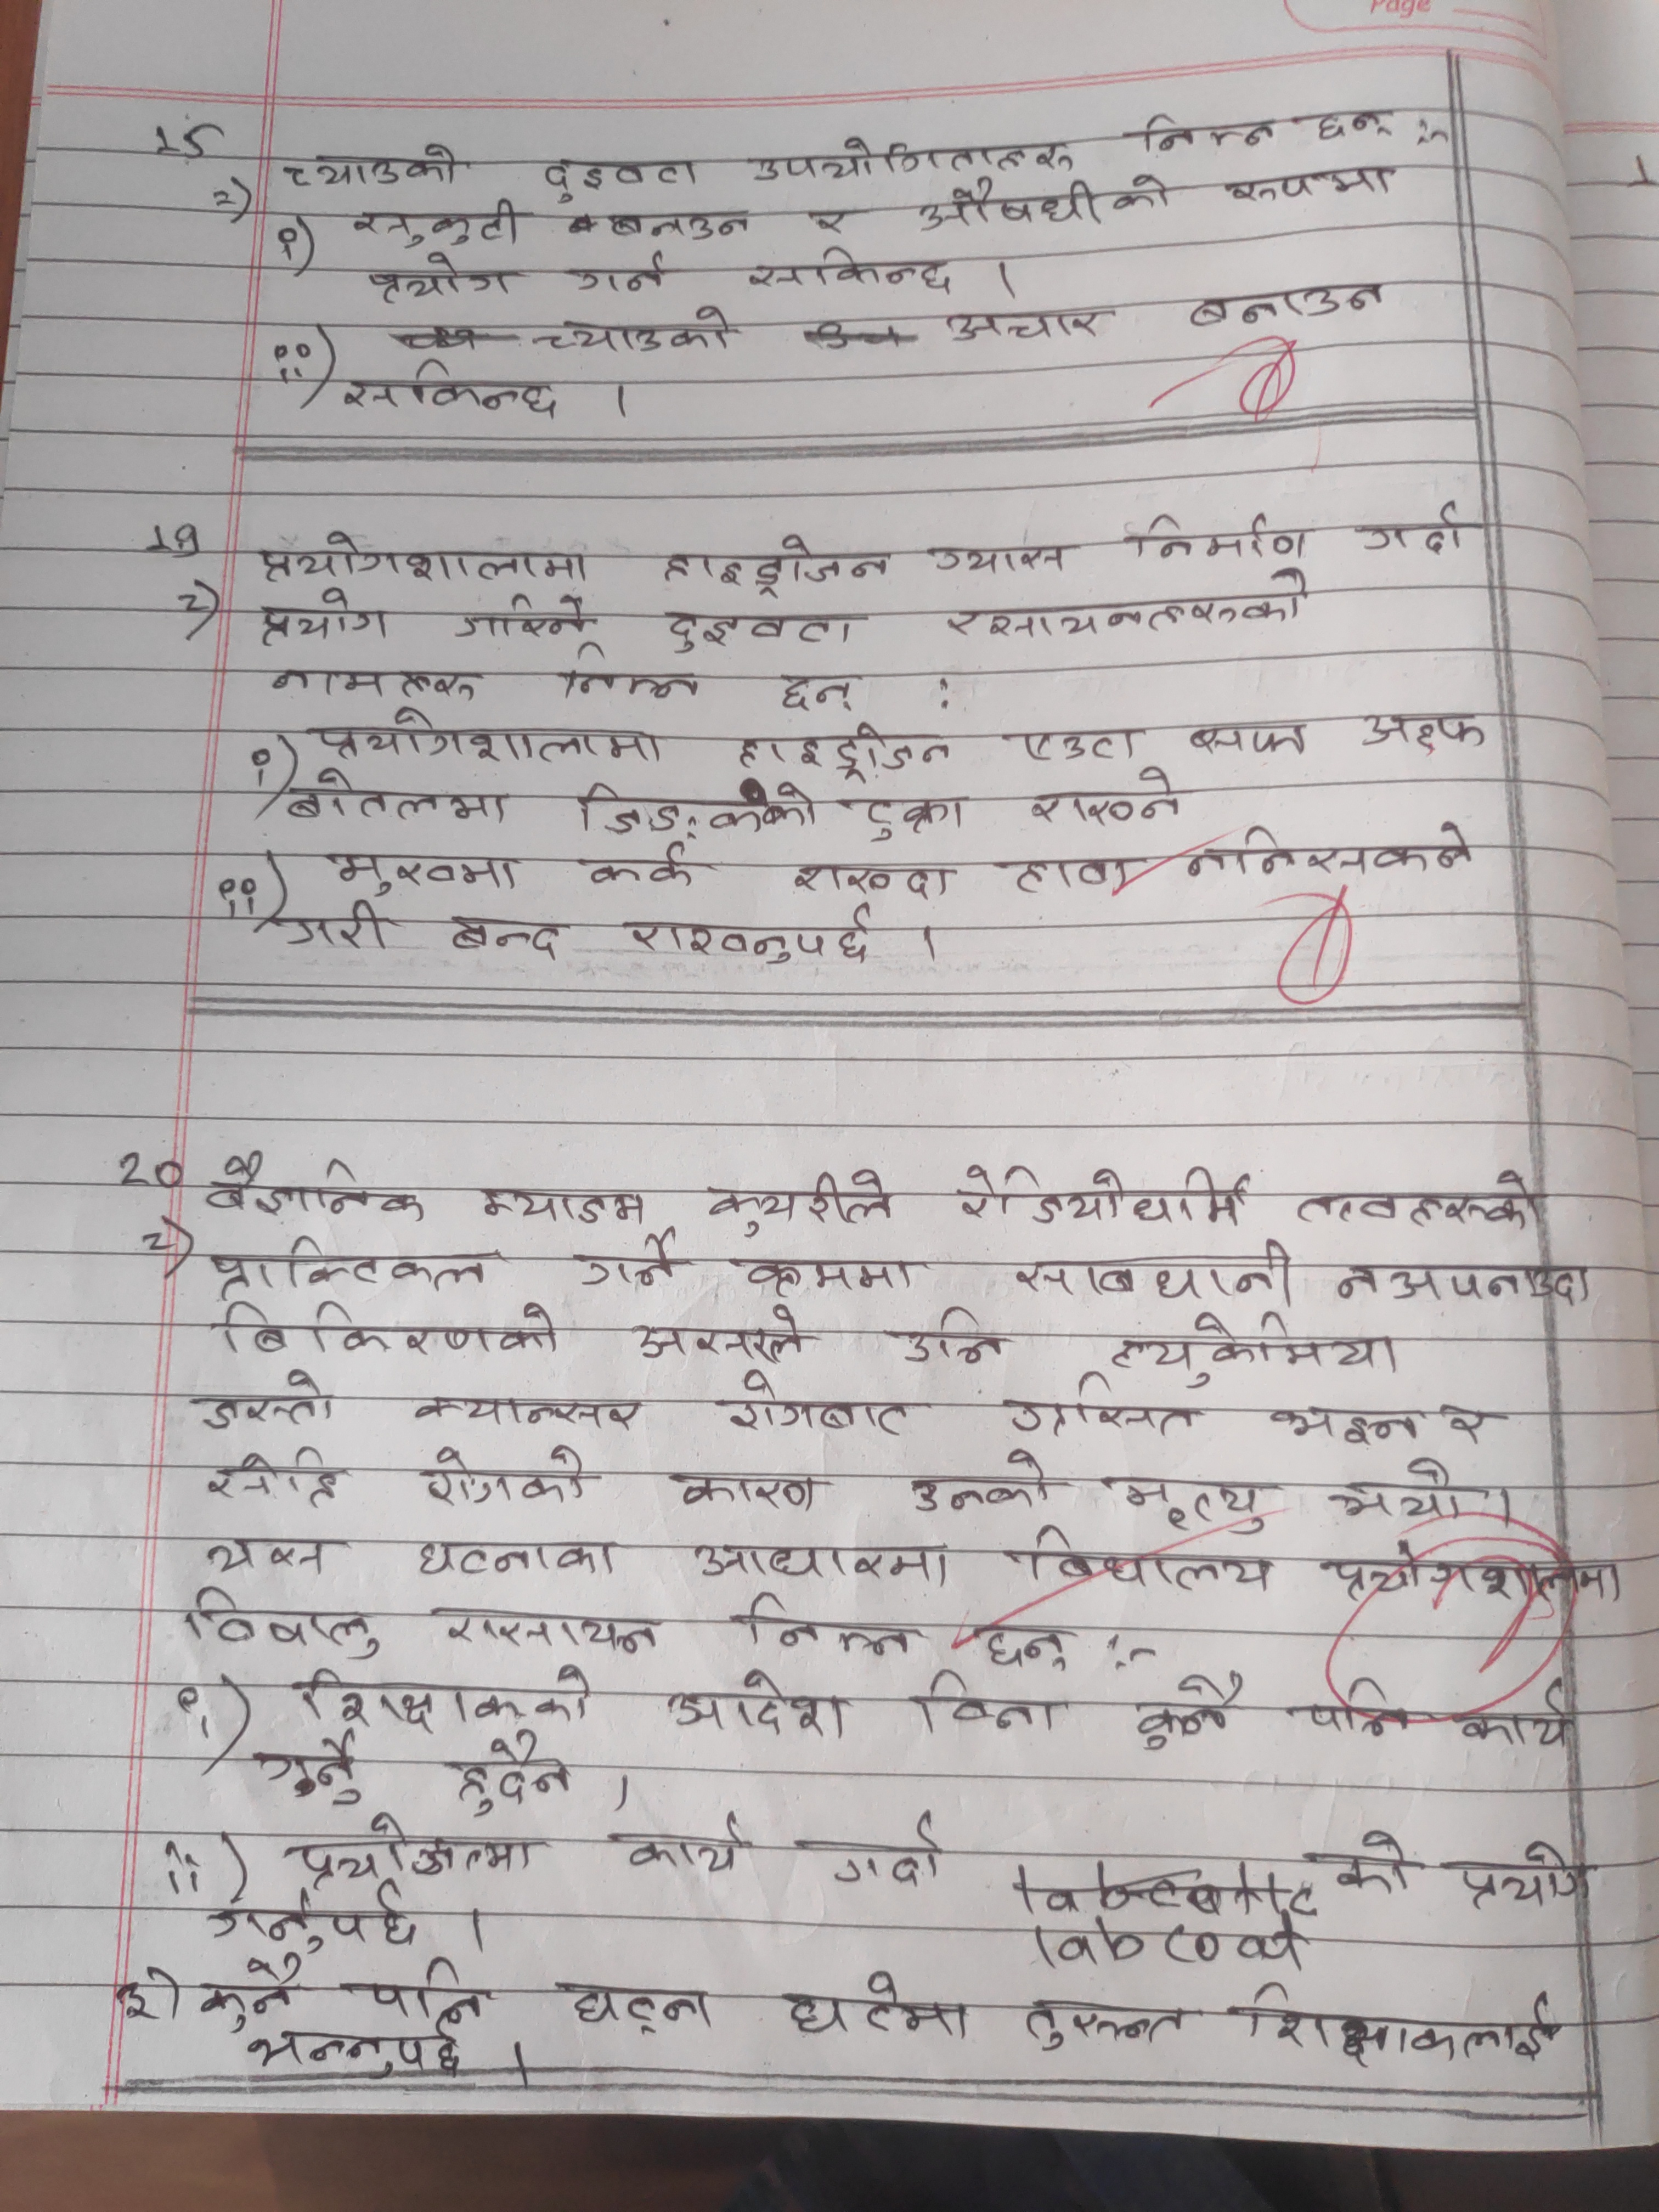text: (1239, 1975, 1561, 2067), (941, 568, 1312, 641), (1314, 1538, 1628, 1616), (1105, 1310, 1410, 1388), (314, 704, 666, 766), (293, 1660, 596, 1730), (220, 1298, 563, 1359), (253, 524, 591, 585), (951, 1163, 1256, 1230), (204, 1235, 498, 1299), (1019, 1524, 1272, 1597), (1009, 1238, 1298, 1301), (617, 899, 878, 965), (293, 1813, 552, 1876), (1185, 824, 1476, 880), (202, 1153, 425, 1224), (1295, 1167, 1547, 1230), (660, 531, 885, 599), (748, 136, 1075, 181), (185, 1587, 382, 1662), (779, 1970, 976, 2045), (692, 1538, 955, 1592), (1337, 1254, 1582, 1312), (286, 765, 511, 827), (579, 773, 823, 831), (721, 1360, 915, 1432), (340, 357, 563, 418), (997, 1379, 1208, 1444), (436, 1597, 664, 1656), (704, 1169, 897, 1238), (734, 721, 955, 780), (1187, 272, 1394, 333), (199, 1897, 425, 1952), (240, 2024, 465, 2080), (342, 1954, 500, 2033), (664, 1670, 845, 1738), (741, 1590, 917, 1658), (535, 301, 741, 359), (411, 1527, 617, 1583), (453, 1733, 580, 1822), (631, 1303, 805, 1367), (1101, 1468, 1270, 1534), (326, 845, 528, 899), (413, 1446, 586, 1508), (906, 1451, 1065, 1519), (1450, 1836, 1596, 1909), (1129, 1669, 1253, 1754), (657, 606, 863, 657), (1023, 765, 1185, 827), (915, 1670, 1063, 1738), (1025, 1996, 1194, 2055), (410, 1392, 648, 1433), (744, 247, 955, 294), (1126, 509, 1309, 563), (350, 197, 523, 253), (913, 185, 1110, 233), (197, 1367, 336, 1435), (1333, 1458, 1473, 1526), (730, 1247, 924, 1296), (1218, 164, 1415, 211), (551, 1980, 716, 2036), (828, 1810, 945, 1888), (281, 141, 460, 192), (204, 1446, 342, 1510), (268, 664, 490, 704), (190, 1958, 314, 2029), (558, 639, 702, 700), (256, 585, 390, 650), (671, 1463, 828, 1517), (256, 1733, 368, 1808), (366, 253, 516, 307), (1455, 1683, 1577, 1749), (1267, 1395, 1420, 1447), (619, 1817, 746, 1879), (789, 852, 964, 897), (476, 1184, 647, 1230), (1352, 498, 1483, 556), (899, 1303, 1012, 1369), (1302, 1677, 1417, 1742), (537, 158, 699, 202), (450, 590, 589, 641), (568, 1231, 687, 1291), (446, 907, 572, 963), (941, 307, 1112, 347), (1358, 707, 1486, 759), (999, 853, 1148, 897), (206, 1529, 335, 1580), (272, 899, 392, 953), (596, 206, 756, 246), (1136, 111, 1276, 157), (924, 540, 1084, 578), (965, 1618, 1072, 1676), (1185, 716, 1312, 763), (570, 841, 701, 887), (1335, 1832, 1420, 1900), (852, 792, 967, 840), (568, 251, 674, 301), (1012, 721, 1143, 761), (772, 669, 856, 714), (1314, 101, 1396, 146), (1443, 1399, 1504, 1453), (1110, 172, 1180, 214), (802, 202, 854, 233)
